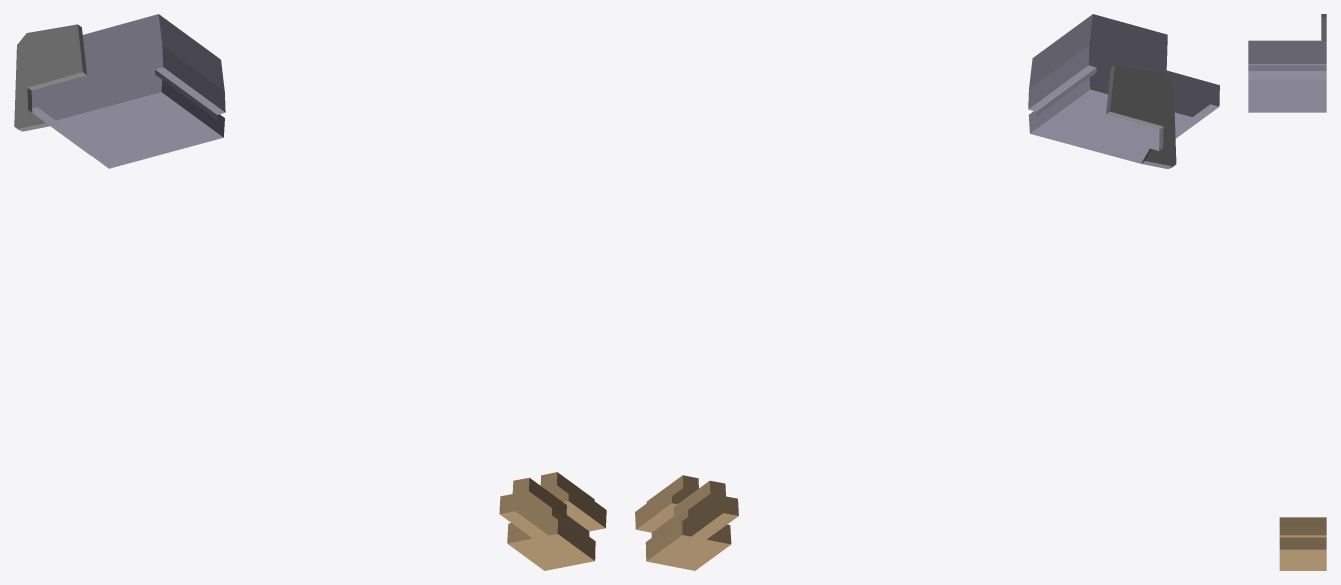
3 renders of one model, left to right at view 1: azimuth 30°, elevation 25°; view 2: azimuth 150°, elevation 25°; view 3: azimuth 270°, elevation 25°, orthographic. The views are drawn at different scales.
Visible parts, largest first — view 1: 0_3_2_0_0_1; view 2: 0_3_2_0_0_1; view 3: 0_3_2_0_0_1.
Part boxes in pixels (bbox=[...]): 0_3_2_0_0_1: bbox=[14, 14, 606, 570]; 0_3_2_0_0_1: bbox=[635, 14, 1219, 570]; 0_3_2_0_0_1: bbox=[1248, 14, 1326, 570].
Bounding box in the file's own units: 231 × 251 × 45.
